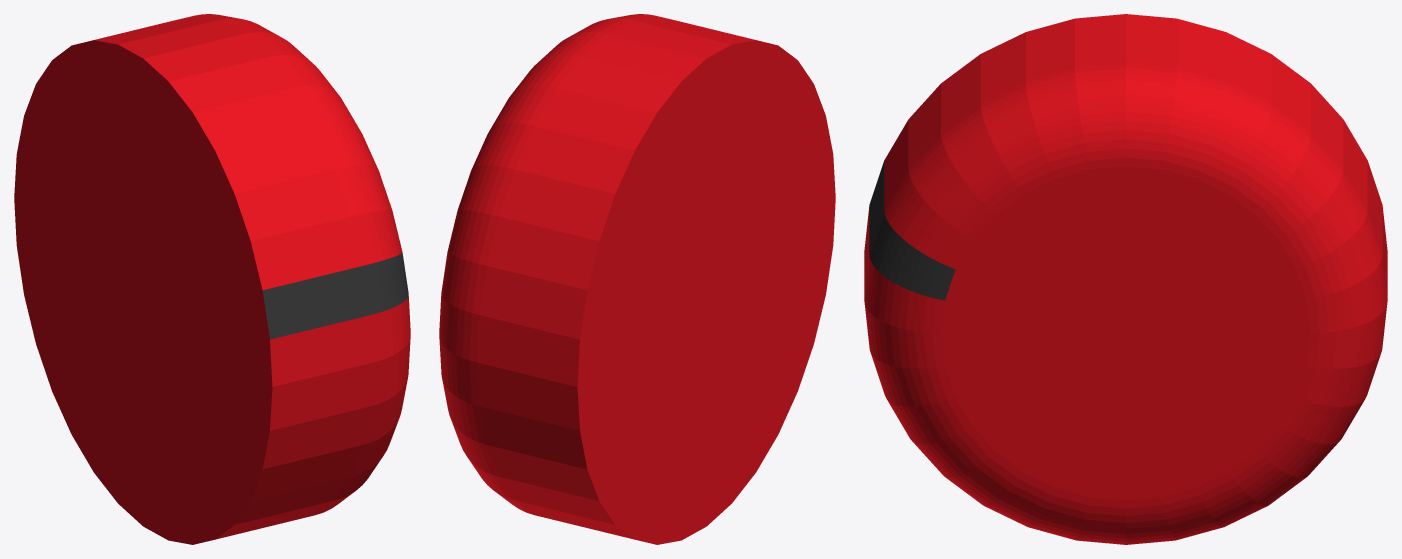
Rendered from IndustrialController_Controller.fbx.
The picture shows the model from 3 angles, left to right: view 1: azimuth 30°, elevation 25°; view 2: azimuth 150°, elevation 25°; view 3: azimuth 270°, elevation 25°; orthographic projection.
Visible parts, largest first — view 1: Controller; view 2: Controller; view 3: Controller.
Part boxes in pixels (x1,y1,x2,y2): Controller: (14,14,410,544); Controller: (439,14,835,544); Controller: (864,14,1387,544).
Bounding box in the file's own units: 0.2085 × 0.2085 × 0.0775.
